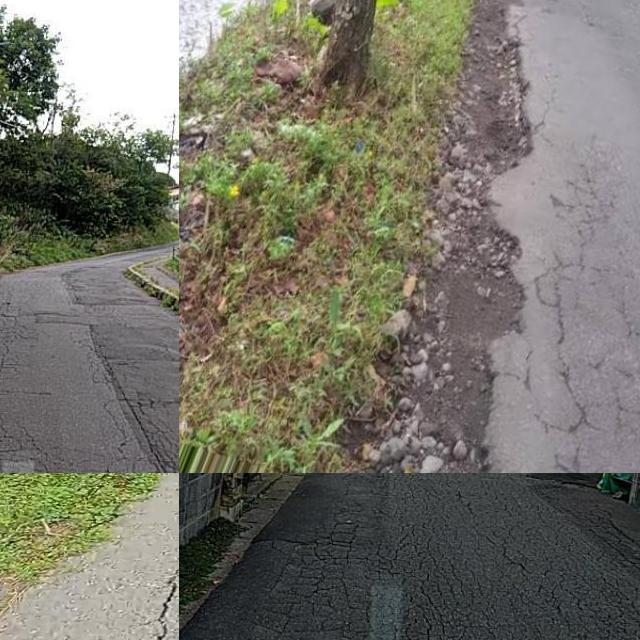Pinggir: (324, 0, 542, 473)
Retak Buaya: (281, 481, 630, 640)
